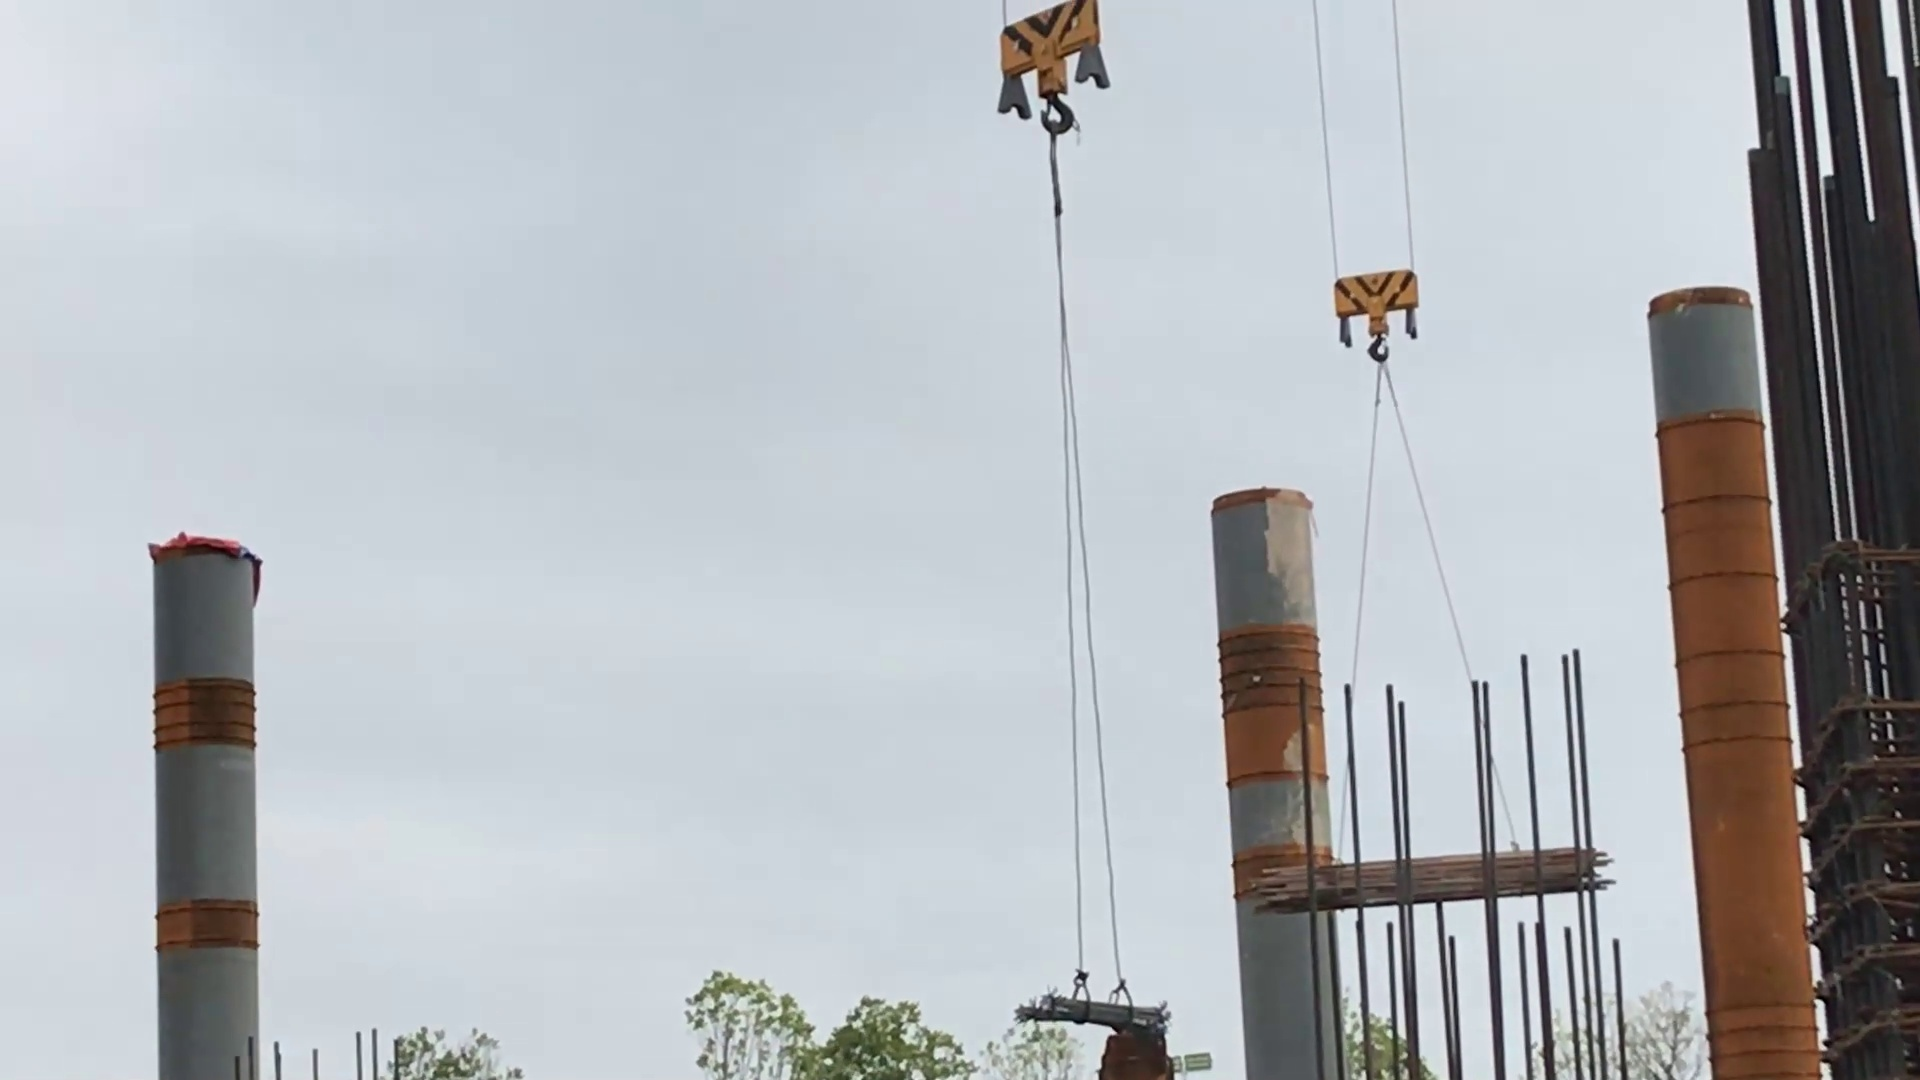hook: (992, 1, 1117, 141), (1329, 266, 1429, 382)
rebar: (1013, 989, 1184, 1048)
wood: (1247, 837, 1633, 920)
